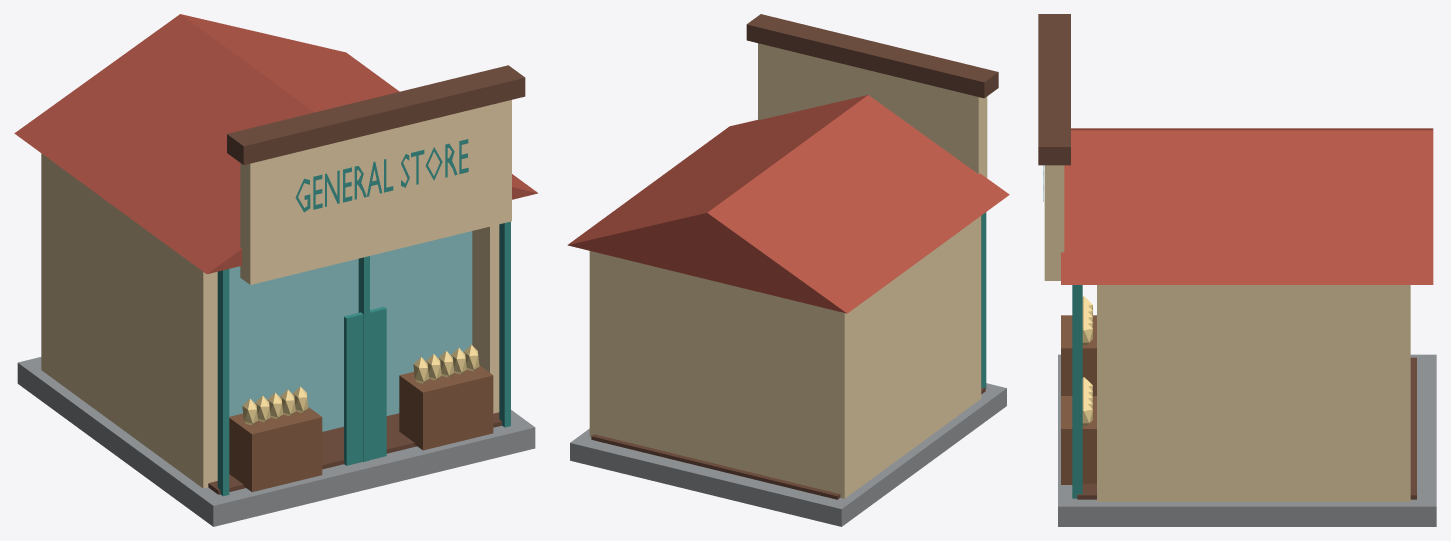
File: shop.glb
3 views of the same model, side by side, from view 1: azimuth 30°, elevation 25°; view 2: azimuth 150°, elevation 25°; view 3: azimuth 270°, elevation 25° (orthographic). The views are drawn at different scales.
Visible parts, largest first — view 1: gable_roof, side_wall, false_front, window_back, foundation, cornice, crate.001, crate, door, side_wall.001, front_post, front_post.002 (+4 smaller); view 2: gable_roof, rear_wall, side_wall, false_front, foundation, cornice, floor, front_post; view 3: side_wall.001, gable_roof, foundation, cornice, rear_wall, front_post.002, false_front, crate.001, crate, floor.
Boxes of the visible parts, x1=… form: gable_roof: x1=14, y1=14, x2=537, y2=273; side_wall: x1=49, y1=161, x2=217, y2=488; false_front: x1=240, y1=100, x2=511, y2=284; window_back: x1=229, y1=231, x2=472, y2=431; foundation: x1=17, y1=357, x2=535, y2=526; cornice: x1=227, y1=65, x2=525, y2=164; crate.001: x1=399, y1=365, x2=493, y2=450; crate: x1=229, y1=407, x2=322, y2=491; door: x1=344, y1=307, x2=386, y2=465; side_wall.001: x1=472, y1=224, x2=499, y2=413; front_post: x1=217, y1=269, x2=229, y2=496; front_post.002: x1=499, y1=221, x2=510, y2=427; gable_roof: x1=567, y1=95, x2=1009, y2=313; rear_wall: x1=589, y1=251, x2=853, y2=498; side_wall: x1=850, y1=216, x2=981, y2=493; false_front: x1=758, y1=43, x2=987, y2=177; foundation: x1=570, y1=383, x2=1006, y2=526; cornice: x1=746, y1=14, x2=998, y2=98; floor: x1=591, y1=387, x2=985, y2=499; front_post: x1=981, y1=212, x2=986, y2=389; side_wall.001: x1=1097, y1=285, x2=1397, y2=501; gable_roof: x1=1061, y1=128, x2=1433, y2=284; foundation: x1=1058, y1=354, x2=1436, y2=526; cornice: x1=1038, y1=14, x2=1070, y2=165; rear_wall: x1=1391, y1=285, x2=1410, y2=501; front_post.002: x1=1072, y1=285, x2=1082, y2=498; false_front: x1=1044, y1=165, x2=1064, y2=280; crate.001: x1=1061, y1=396, x2=1096, y2=484; crate: x1=1061, y1=315, x2=1096, y2=395; floor: x1=1077, y1=357, x2=1416, y2=499.
Bounding box in the file's own units: 3.3 × 3.64 × 3.55.
